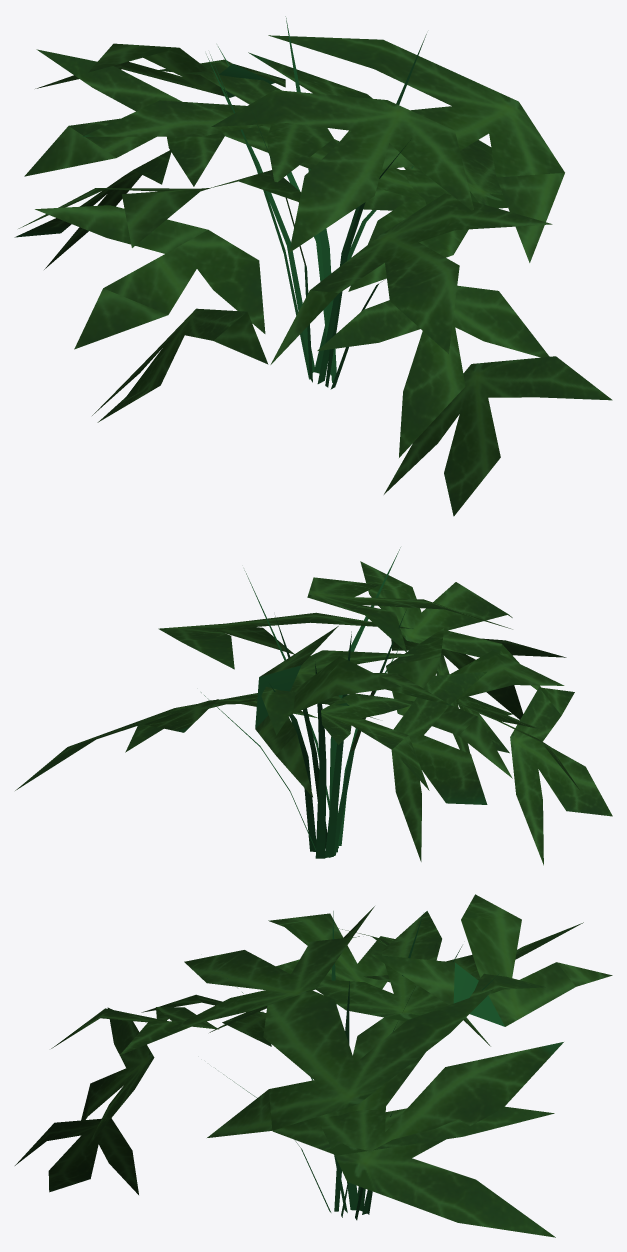
Rendered from SM_Tree_And_Bushes.fbx_SM_Bush_16.fbx.
3 views of the same model, one above another, from view 1: azimuth 30°, elevation 25°; view 2: azimuth 150°, elevation 25°; view 3: azimuth 270°, elevation 25° (orthographic). The views are drawn at different scales.
Parts seen in each view (by area): view 1: SM_Tree_26; view 2: SM_Tree_26; view 3: SM_Tree_26.
Boxes of the visible parts, bbox=[...] form: SM_Tree_26: bbox=[14, 16, 612, 516]; SM_Tree_26: bbox=[15, 547, 612, 865]; SM_Tree_26: bbox=[15, 894, 612, 1237].
Bounding box in the file's own units: 2802 × 1645 × 3111.
